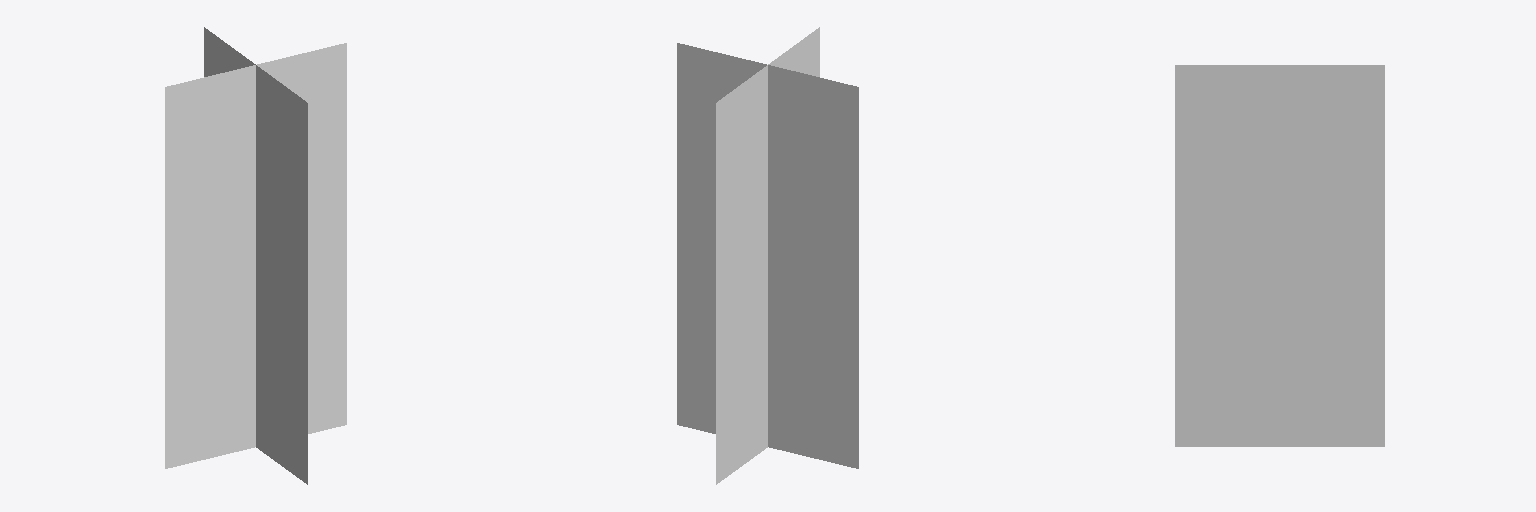
File: Oval-leaved_Privet_Fan_0.obj
3 renders of one model, left to right at view 1: azimuth 30°, elevation 25°; view 2: azimuth 150°, elevation 25°; view 3: azimuth 270°, elevation 25°, orthographic.
Parts seen in each view (by area): view 1: CreateFan; view 2: CreateFan; view 3: CreateFan.
Part boxes in pixels (x1,y1,x2,y2): CreateFan: (165, 27, 346, 484); CreateFan: (677, 27, 858, 484); CreateFan: (1175, 65, 1384, 446).
Size of the model in its own units: 1.49 by 3 by 1.49.